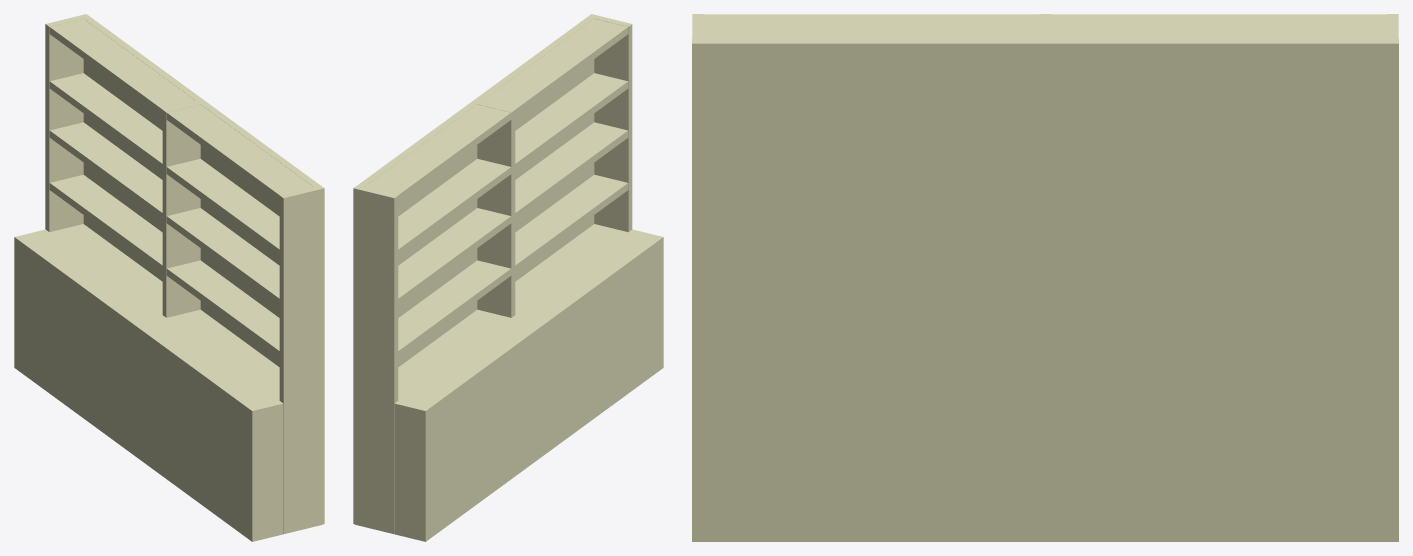
The model's file is shelf3Mback.fbx.
3 renders of one model, left to right at view 1: azimuth 30°, elevation 25°; view 2: azimuth 150°, elevation 25°; view 3: azimuth 270°, elevation 25°, orthographic. The views are drawn at different scales.
Parts seen in each view (by area): view 1: floor1, wallRight, back, ceiling, floor2, floor4, floor3, wallCenter, wallLeft; view 2: floor1, wallLeft, back, ceiling, floor2, floor4, floor3, wallCenter, wallRight; view 3: back, ceiling.
Part boxes in pixels (<box>): floor1: <box>14,224,322,541</box>; wallRight: <box>279,187,317,533</box>; back: <box>81,14,324,525</box>; ceiling: <box>49,19,312,201</box>; floor2: <box>49,174,279,357</box>; floor4: <box>49,73,279,256</box>; floor3: <box>49,122,279,305</box>; wallCenter: <box>162,101,201,317</box>; wallLeft: <box>45,15,84,232</box>; floor1: <box>355,224,663,541</box>; wallLeft: <box>359,186,398,533</box>; back: <box>353,14,597,525</box>; ceiling: <box>365,19,628,201</box>; floor2: <box>398,174,628,357</box>; floor4: <box>398,73,628,256</box>; floor3: <box>398,122,628,305</box>; wallCenter: <box>476,101,515,317</box>; wallRight: <box>594,15,632,232</box>; back: <box>692,38,1398,541</box>; ceiling: <box>704,14,1386,38</box>.
Bounding box in the file's own units: 105 × 467 × 600.
